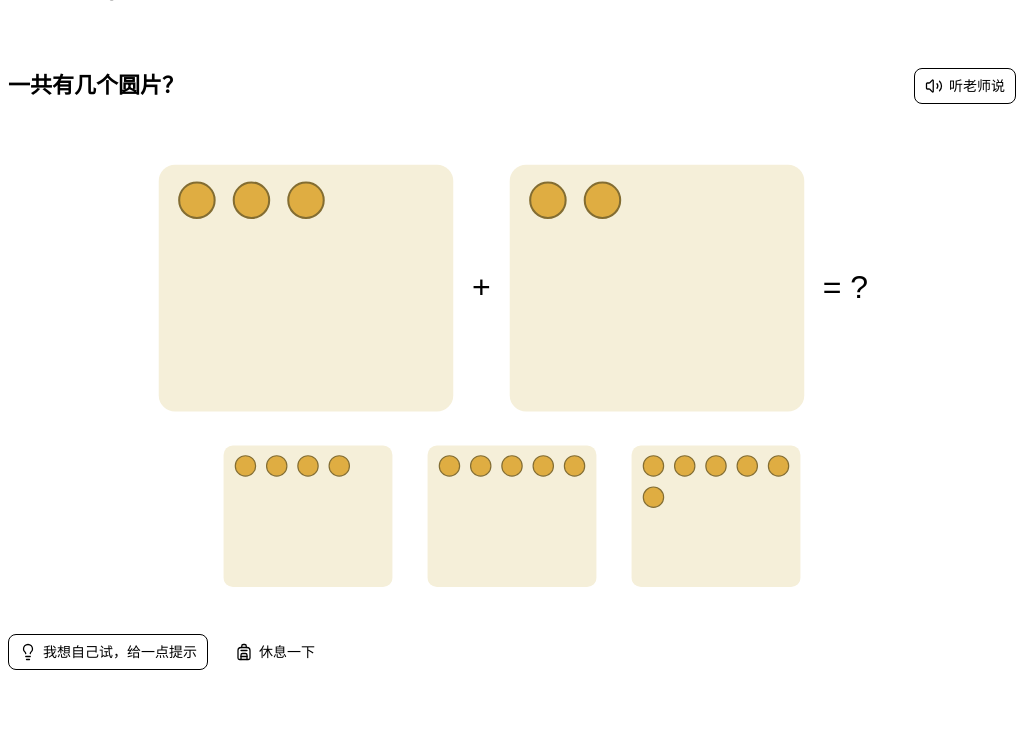
Scenario: homework correction flow › retries the same answer with the same key without accepting browser scoring
The image size is (1024, 742).
(page scrolled)
Click the button named "5 个圆片" at (512, 518), box [416,434,608,602]
(page scrolled)
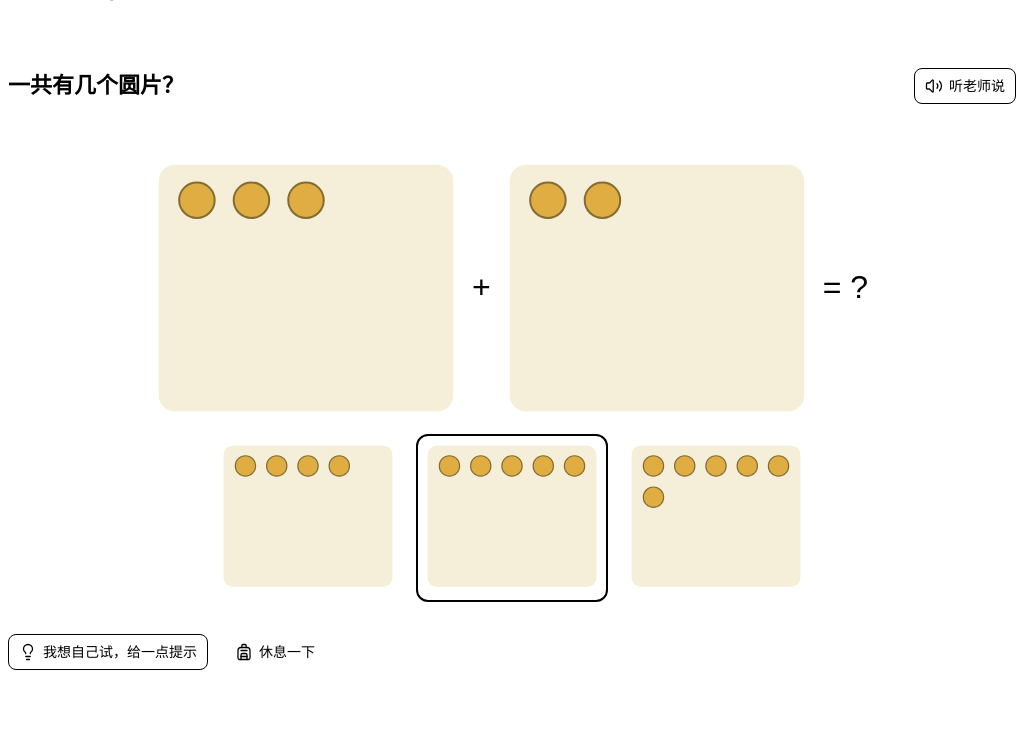
Click the button named "5 个圆片" at (512, 518), box [416,434,608,602]
(page scrolled)
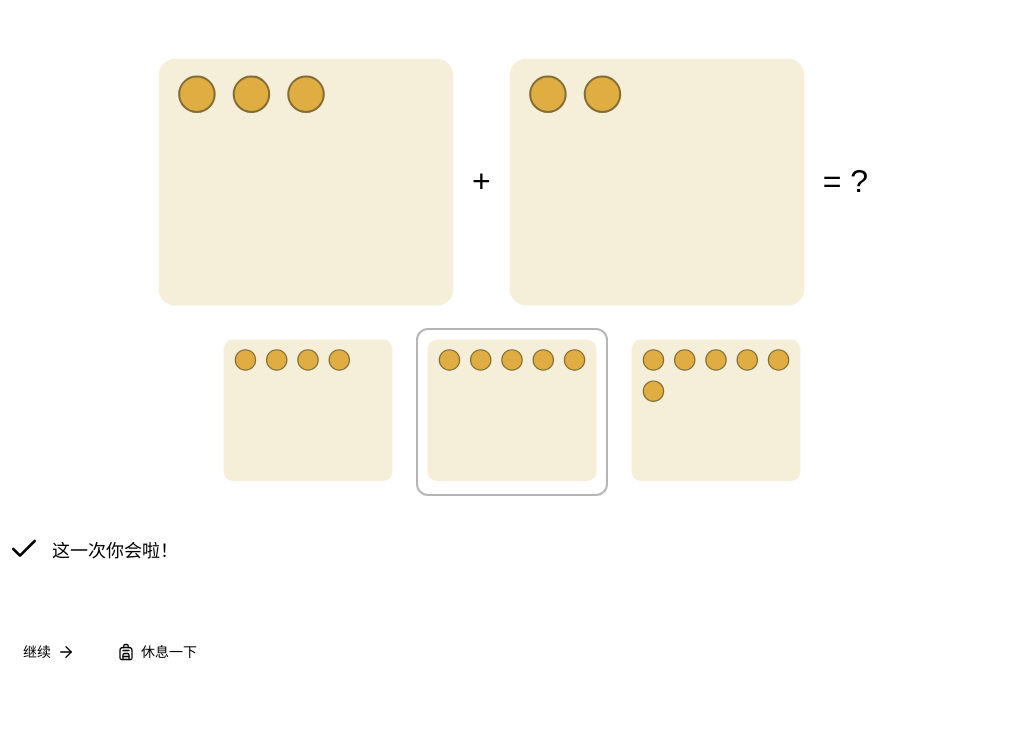
Check: the text "这一次你会啦！" is shown, box [52,536,178,562]
Click the button "继续" at (49, 652), box [8,632,90,672]
(page scrolled)
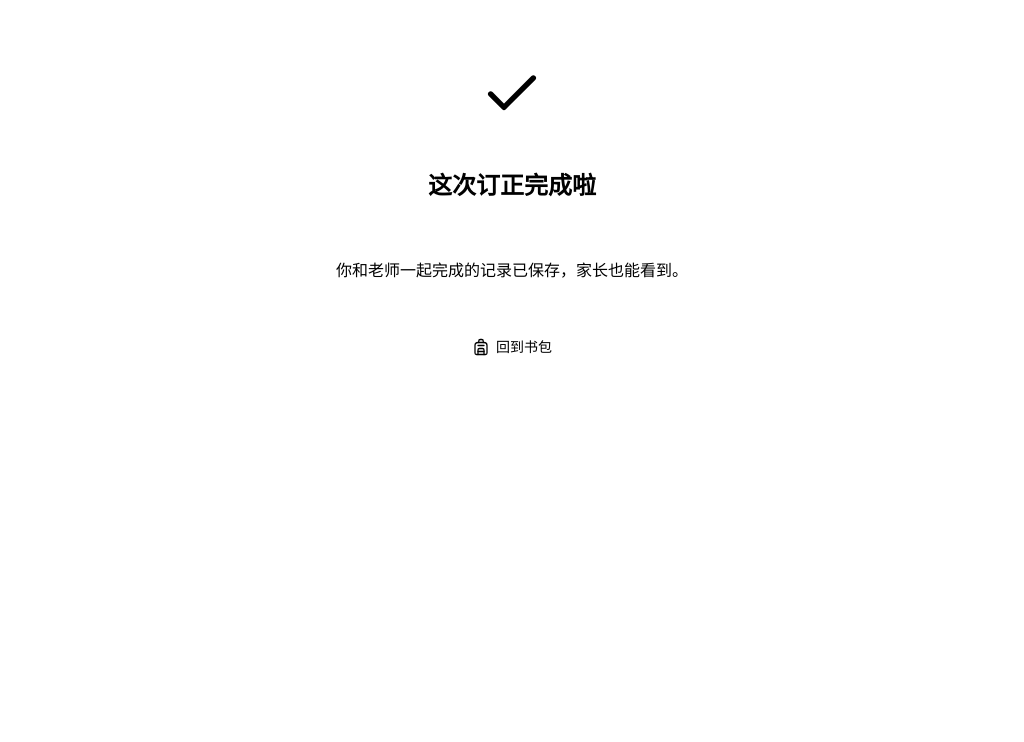
Check: the heading "这次订正完成啦" is shown, box [428,166,596,201]
